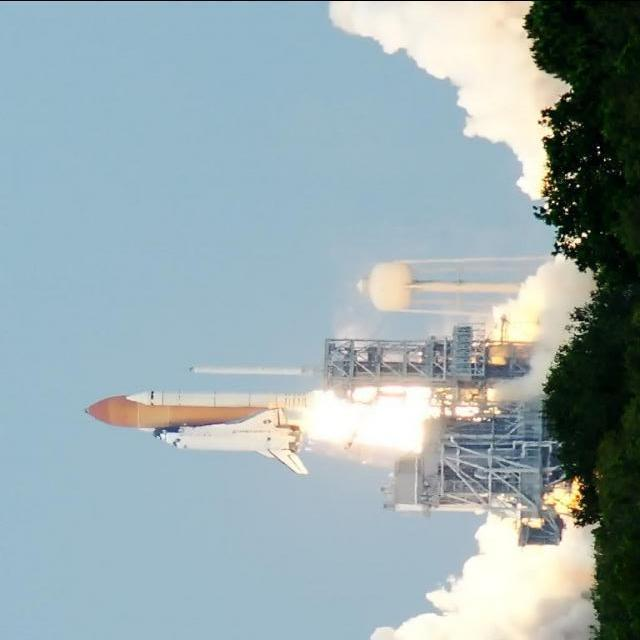missile: (71, 384, 336, 484)
